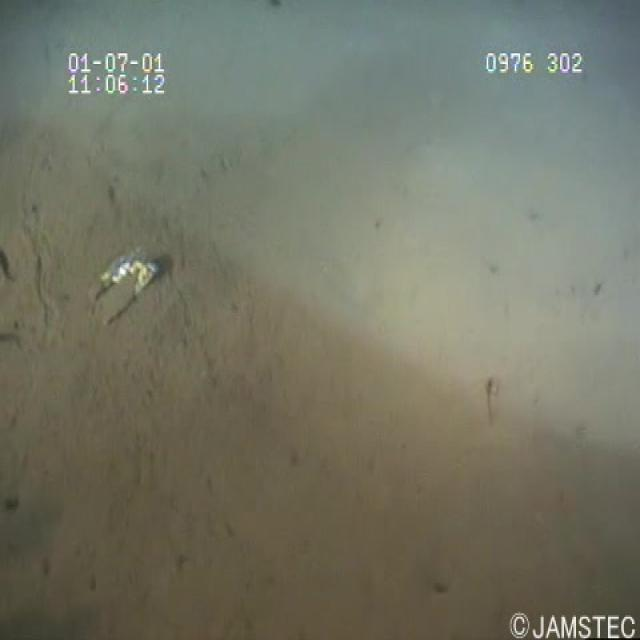plastic: (81, 230, 171, 350)
